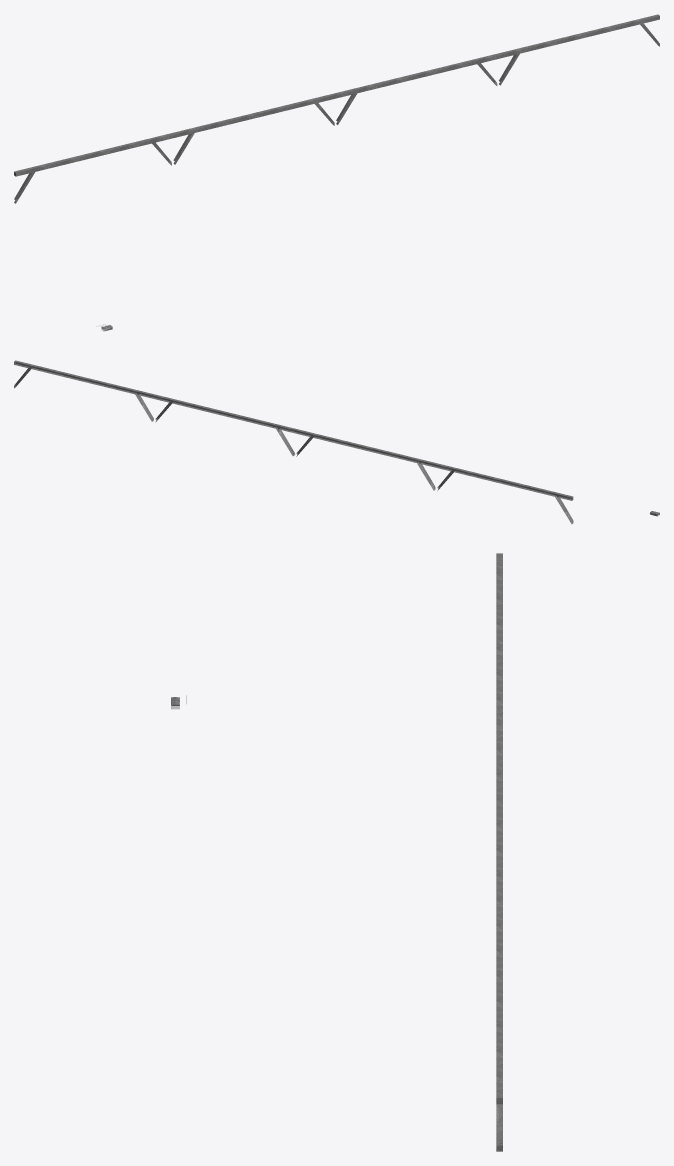
The model's file is Hangar-teste.gltf.
3 views of the same model, one above another, from view 1: azimuth 30°, elevation 25°; view 2: azimuth 150°, elevation 25°; view 3: azimuth 270°, elevation 25° (orthographic). The views are drawn at different scales.
Parts seen in each view (by area): view 1: instance_0.000; view 2: instance_0.000; view 3: instance_0.000.
Part boxes in pixels (<box>): instance_0.000: <box>14,14,659,203</box>; instance_0.000: <box>14,360,573,524</box>; instance_0.000: <box>496,553,502,1151</box>.
Bounding box in the file's own units: 1580 × 205 × 401.
Materials: 20 (18 with a texture image).
